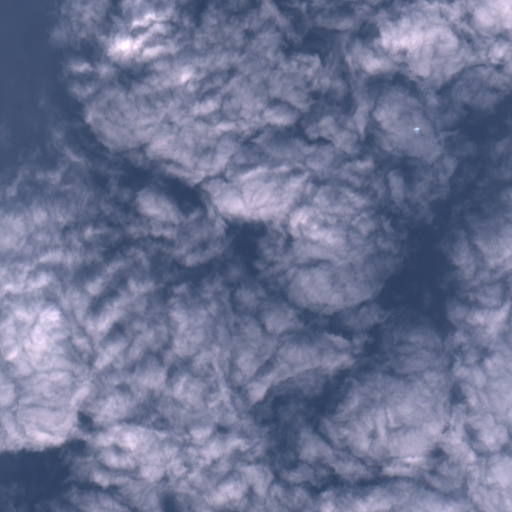Iceberg: (414, 128, 419, 133)
